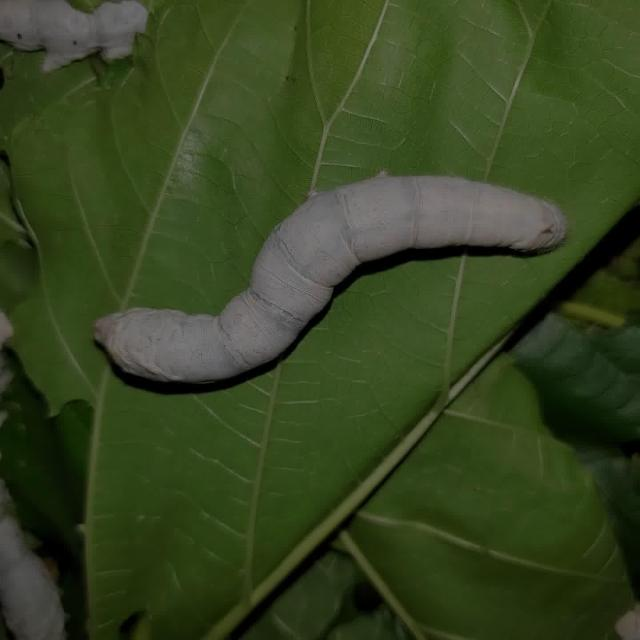Healthy: (81, 154, 576, 402)
